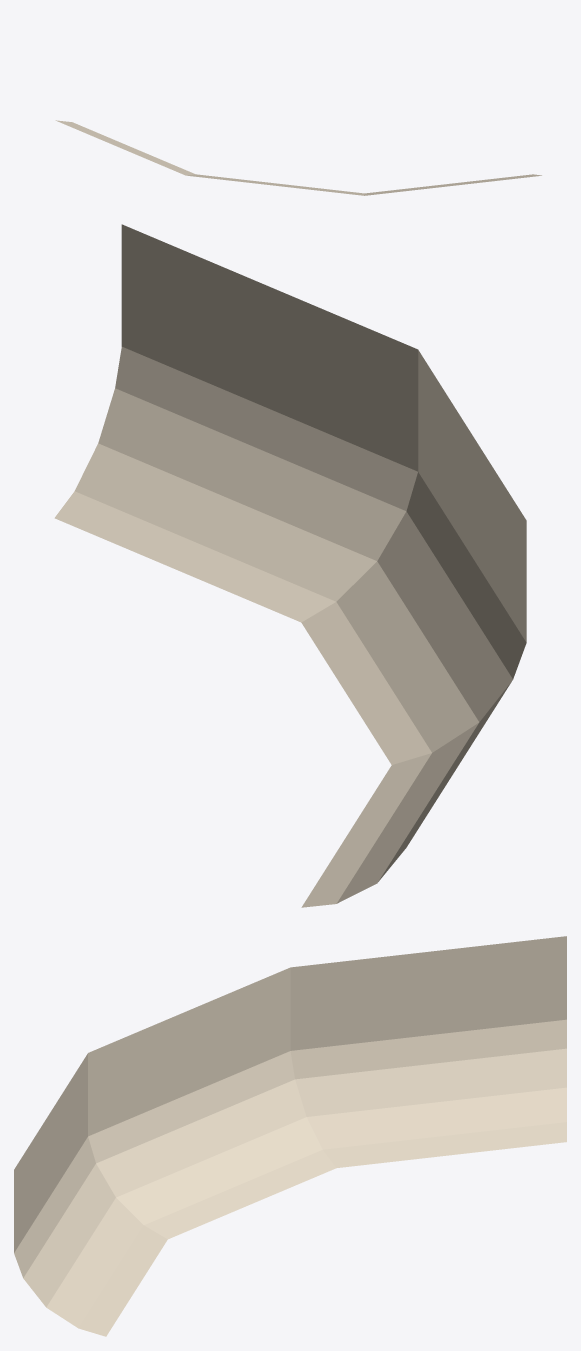
Rendered from Escarpment_Terrain_Corner_Inner_3x3_Base.glb.
3 renders of one model, top to bottom at view 1: azimuth 30°, elevation 25°; view 2: azimuth 150°, elevation 25°; view 3: azimuth 270°, elevation 25°, orthographic. The views are drawn at different scales.
Visible parts, largest first — view 1: Escarpment_Terrain_Corner_Inner_3x3_Base; view 2: Escarpment_Terrain_Corner_Inner_3x3_Base; view 3: Escarpment_Terrain_Corner_Inner_3x3_Base.
Boxes of the visible parts, box(x1,y1,x2,y2) form: Escarpment_Terrain_Corner_Inner_3x3_Base: box(55, 120, 541, 195); Escarpment_Terrain_Corner_Inner_3x3_Base: box(54, 224, 526, 907); Escarpment_Terrain_Corner_Inner_3x3_Base: box(14, 936, 566, 1336).
Size of the model in its own units: 3 by 1 by 3.
